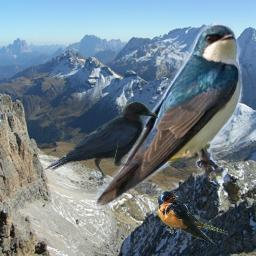Crow: (45, 101, 158, 181)
Swallow: (89, 17, 249, 210), (157, 190, 228, 244)
